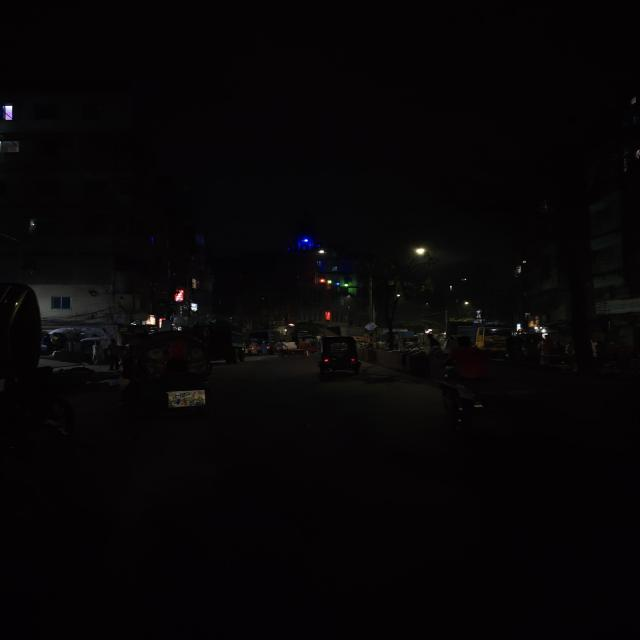cng: (312, 334, 369, 378)
rickshaw: (122, 329, 216, 416), (280, 338, 310, 360)
truck: (202, 320, 250, 364), (466, 325, 509, 353)
